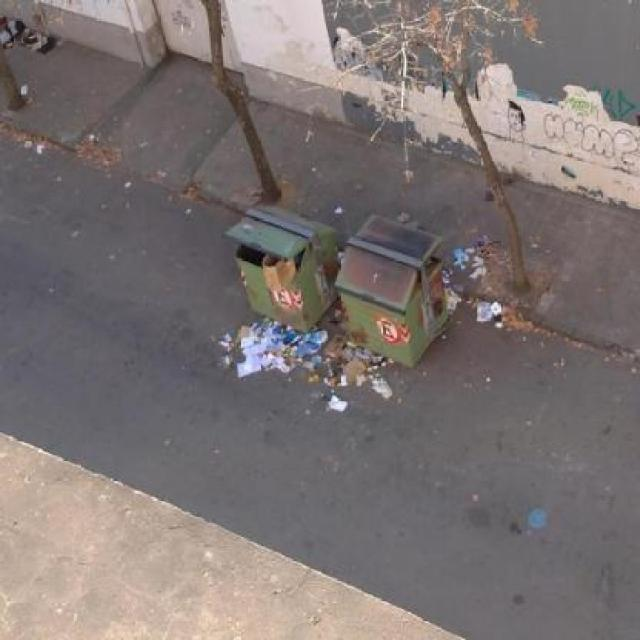garbage: (225, 309, 382, 410), (449, 220, 510, 334), (252, 251, 294, 292)
